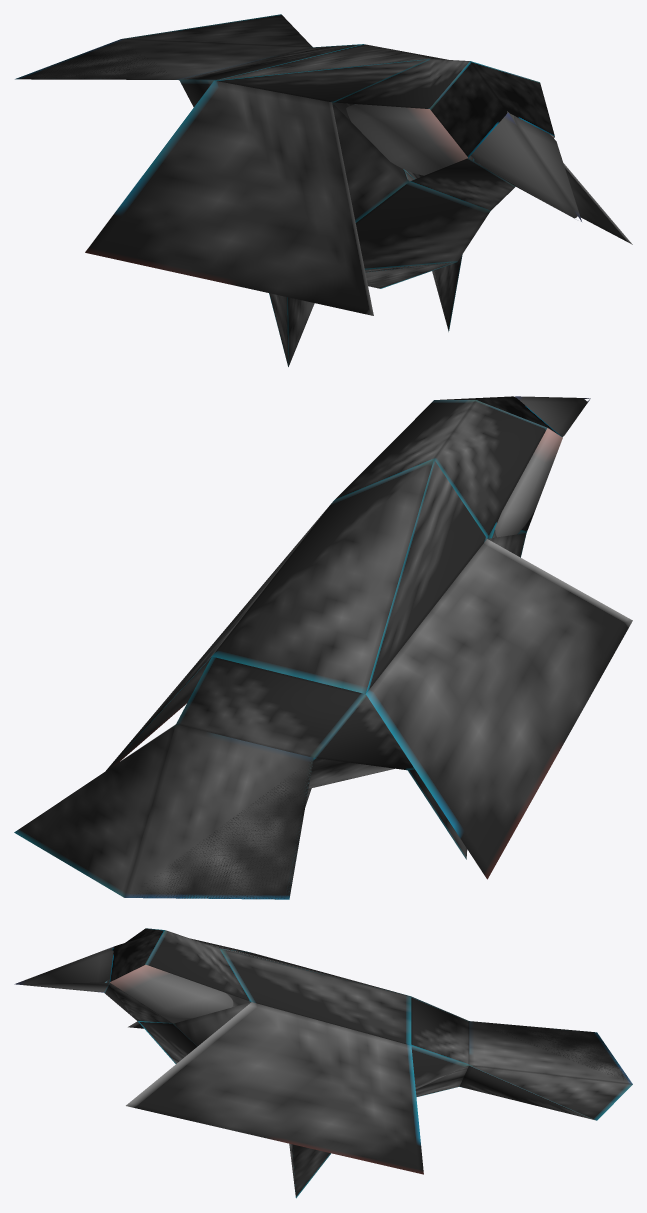
The picture shows the model from 3 angles, top to bottom: view 1: azimuth 30°, elevation 25°; view 2: azimuth 150°, elevation 25°; view 3: azimuth 270°, elevation 25°; orthographic projection. The views are drawn at different scales.
Visible parts, largest first — view 1: T1L1M005_12; view 2: T1L1M005_12; view 3: T1L1M005_12.
Part boxes in pixels (box(x1,y1,x2,y2)): T1L1M005_12: box(15, 14, 632, 366); T1L1M005_12: box(14, 396, 632, 899); T1L1M005_12: box(14, 928, 632, 1198).
Bounding box in the file's own units: 0.0934 × 0.0855 × 0.1966.
